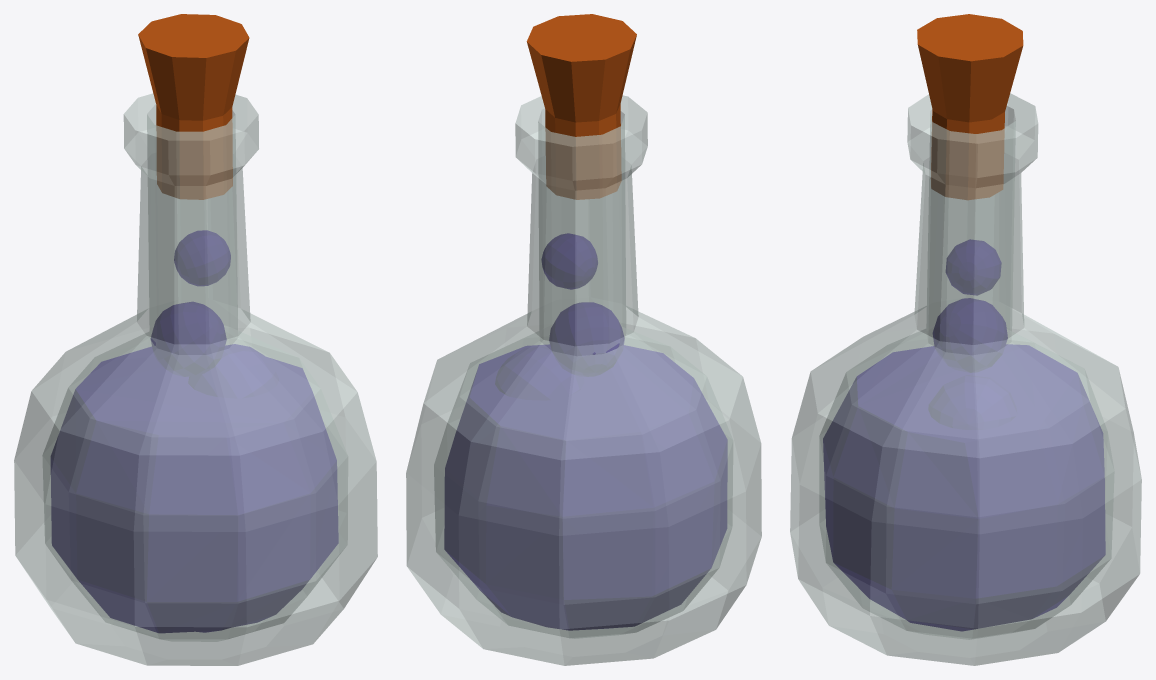
Rendered from potion.obj.
The picture shows the model from 3 angles, left to right: view 1: azimuth 30°, elevation 25°; view 2: azimuth 150°, elevation 25°; view 3: azimuth 270°, elevation 25°; orthographic projection.
Visible parts, largest first — view 1: group2068853349; view 2: group2068853349; view 3: group2068853349.
Boxes of the visible parts, left/top/right/bottom form: group2068853349: left=14, top=14, right=377, bottom=665; group2068853349: left=406, top=14, right=761, bottom=665; group2068853349: left=790, top=14, right=1141, bottom=665.
Size of the model in its own units: 0.5566 by 1 by 0.5439.
